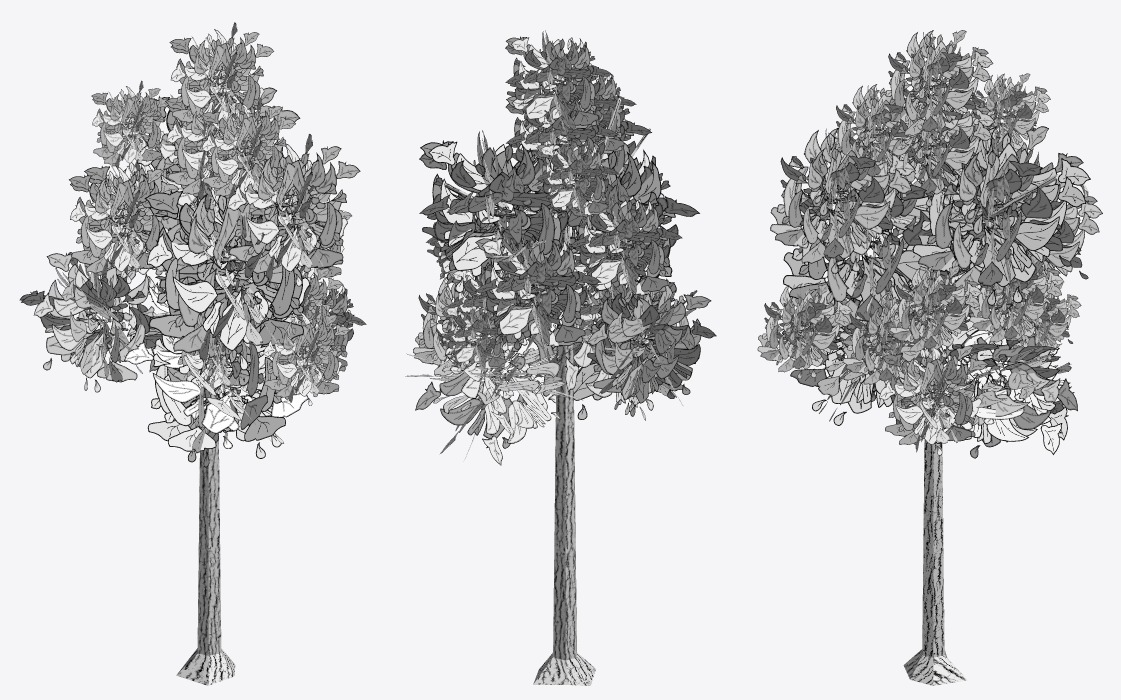
File: Tree.fbx
3 views of the same model, side by side, from view 1: azimuth 30°, elevation 25°; view 2: azimuth 150°, elevation 25°; view 3: azimuth 270°, elevation 25° (orthographic).
Parts seen in each view (by area): view 1: Plane.004, Plane.007, Plane.001, Plane, Plane.012, Tree, Plane.003, Plane.015, Plane.011, Plane.008, Plane.014, Plane.005 (+5 smaller); view 2: Plane.005, Plane, Plane.006, Tree, Plane.009, Plane.012, Plane.003, Plane.004, Plane.008, Plane.014, Plane.007, Plane.017 (+6 smaller); view 3: Plane.005, Plane.001, Plane.006, Plane.004, Plane.002, Plane.003, Tree, Plane.011, Plane.013, Plane.014, Plane.015, Plane.010 (+5 smaller).
Boxes of the visible parts, bbox=[...] form: Plane.004: bbox=[144, 188, 318, 370]; Plane.007: bbox=[124, 300, 308, 467]; Plane.001: bbox=[225, 134, 360, 286]; Plane: bbox=[19, 252, 162, 392]; Plane.012: bbox=[69, 160, 178, 283]; Tree: bbox=[87, 136, 289, 685]; Plane.003: bbox=[169, 22, 273, 135]; Plane.015: bbox=[200, 97, 295, 198]; Plane.011: bbox=[262, 306, 350, 405]; Plane.008: bbox=[91, 80, 167, 171]; Plane.014: bbox=[165, 92, 271, 199]; Plane.005: bbox=[137, 87, 300, 255]; Plane.005: bbox=[419, 130, 587, 304]; Plane: bbox=[587, 276, 716, 416]; Plane.006: bbox=[405, 326, 582, 465]; Tree: bbox=[444, 98, 650, 685]; Plane.009: bbox=[475, 230, 601, 360]; Plane.012: bbox=[570, 191, 682, 307]; Plane.003: bbox=[505, 30, 612, 140]; Plane.004: bbox=[513, 149, 699, 311]; Plane.008: bbox=[536, 139, 618, 224]; Plane.014: bbox=[505, 90, 617, 193]; Plane.007: bbox=[525, 277, 695, 420]; Plane.017: bbox=[442, 305, 506, 376]; Plane.005: bbox=[913, 126, 1090, 305]; Plane.001: bbox=[770, 127, 915, 273]; Plane.006: bbox=[918, 304, 1077, 458]; Plane.004: bbox=[783, 145, 973, 342]; Plane.002: bbox=[879, 345, 988, 455]; Plane.003: bbox=[880, 30, 993, 143]; Tree: bbox=[825, 91, 1058, 685]; Plane.011: bbox=[757, 283, 852, 378]; Plane.013: bbox=[890, 266, 982, 358]; Plane.014: bbox=[887, 89, 995, 206]; Plane.015: bbox=[835, 84, 925, 186]; Plane.010: bbox=[969, 255, 1063, 349].
Size of the model in its own units: 235 by 449 by 223.
1 material, 1 textured.
